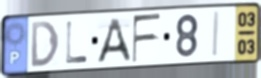8: (174, 12, 200, 60)
A: (94, 16, 133, 65)
D: (30, 19, 61, 70)
F: (131, 12, 163, 65)
I: (211, 10, 222, 60)
L: (65, 20, 89, 66)
